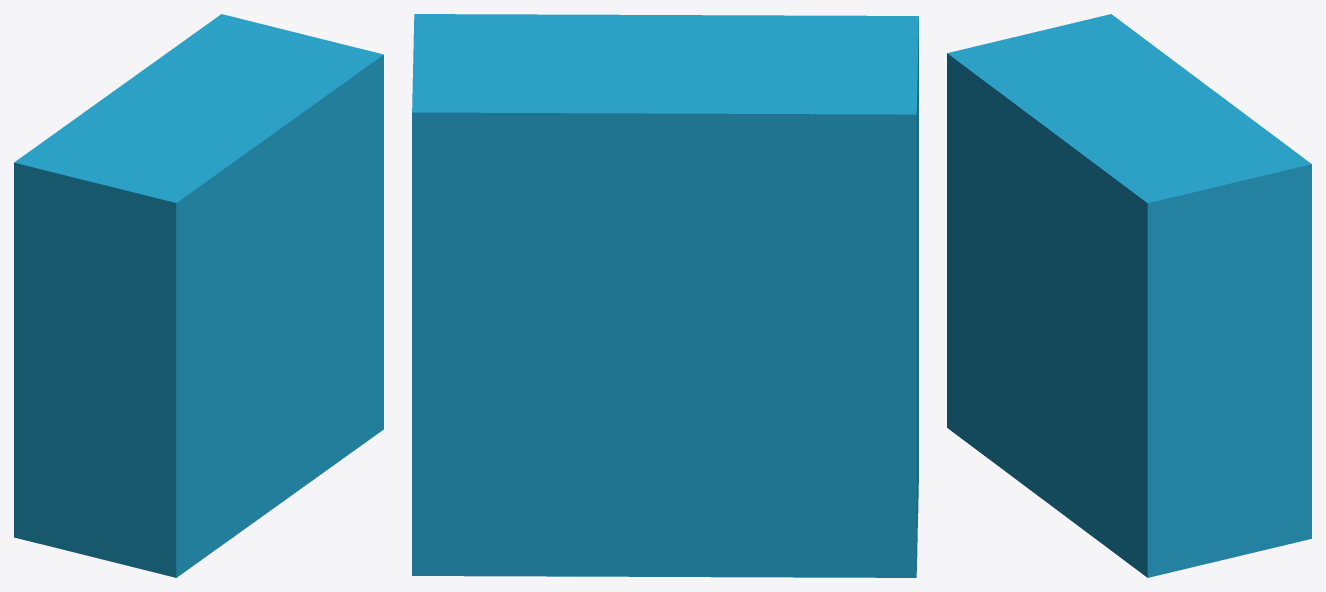
The picture shows the model from 3 angles, left to right: view 1: azimuth 30°, elevation 25°; view 2: azimuth 150°, elevation 25°; view 3: azimuth 270°, elevation 25°; orthographic projection. The views are drawn at different scales.
Visible parts, largest first — view 1: Visual_Cube; view 2: Visual_Cube; view 3: Visual_Cube.
Part boxes in pixels (x1=…): Visual_Cube: x1=14, y1=14, x2=383, y2=577; Visual_Cube: x1=412, y1=14, x2=918, y2=577; Visual_Cube: x1=947, y1=14, x2=1311, y2=577.
Size of the model in its own units: 79.52 by 73.38 by 64.75.
